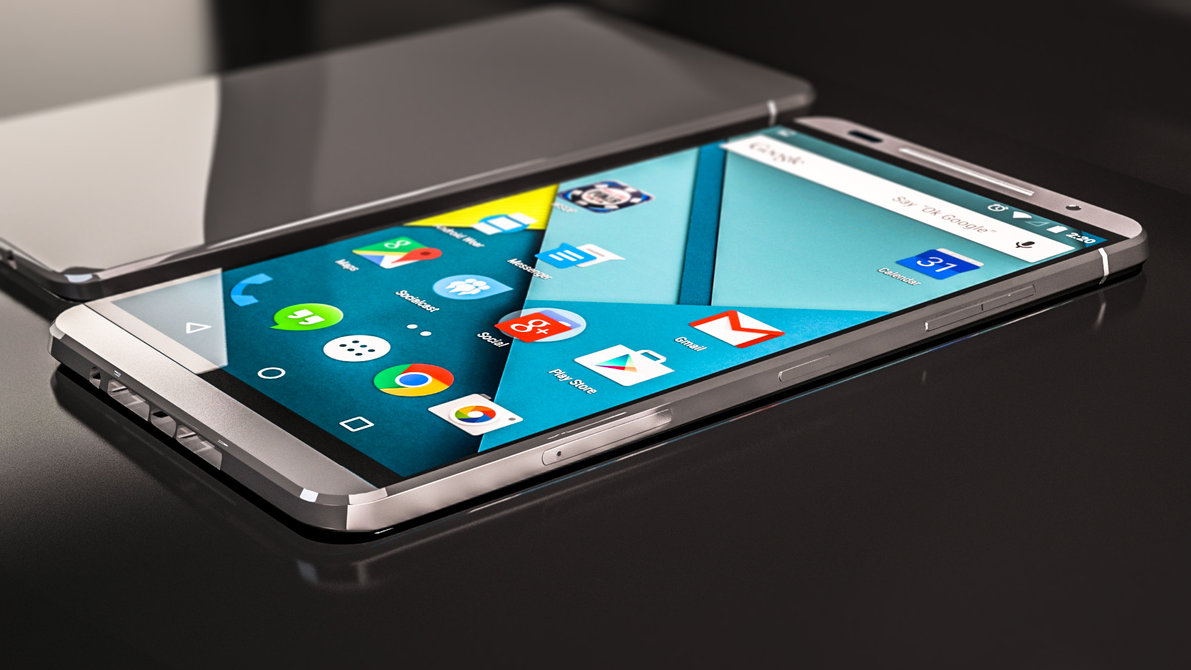smartphone: (49, 116, 1147, 534), (1, 1, 817, 301)
